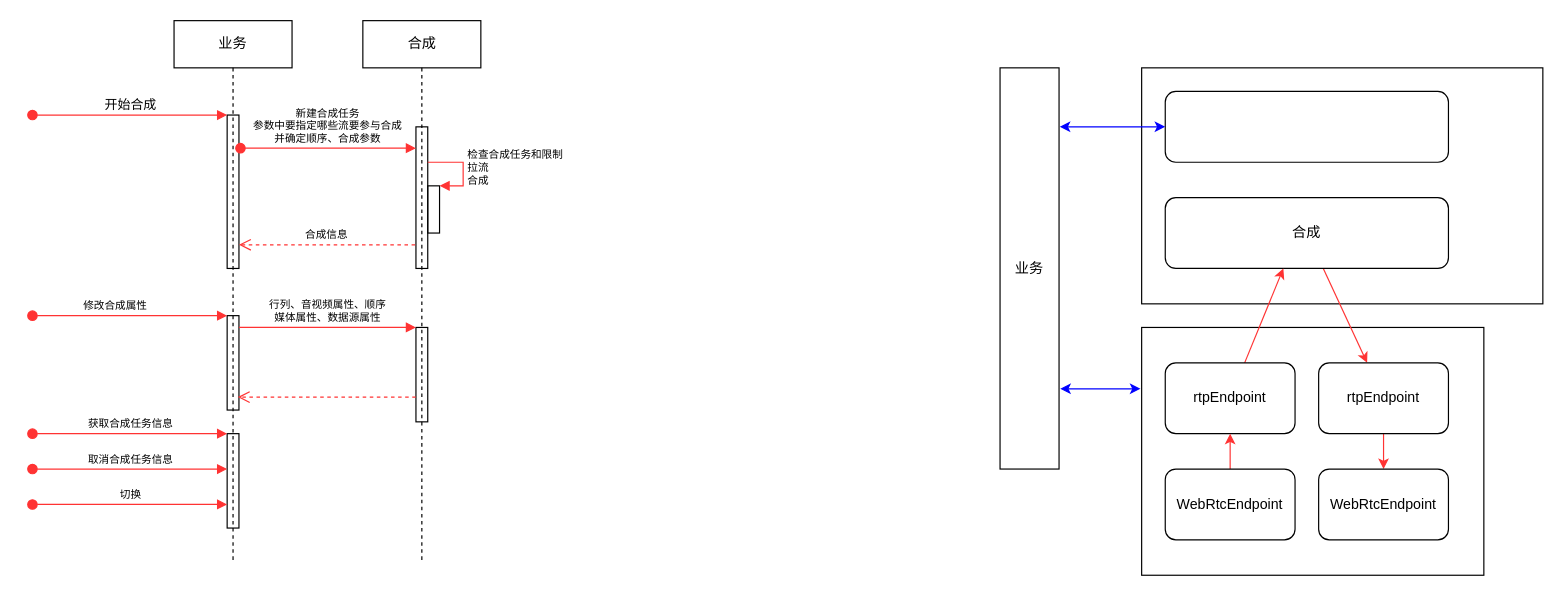
The diagram is 1563 pixels wide and 596 high, and some of its shapes have lost their labels. The shapes that lost their labels are listed below. From the top down, each one's box as (x1, y1, x2, y2) in pixels, then its label:
(1164, 90, 1448, 162): 接入 http
(1140, 67, 1543, 304): ffmpeg合成
(1140, 326, 1484, 575): kms
